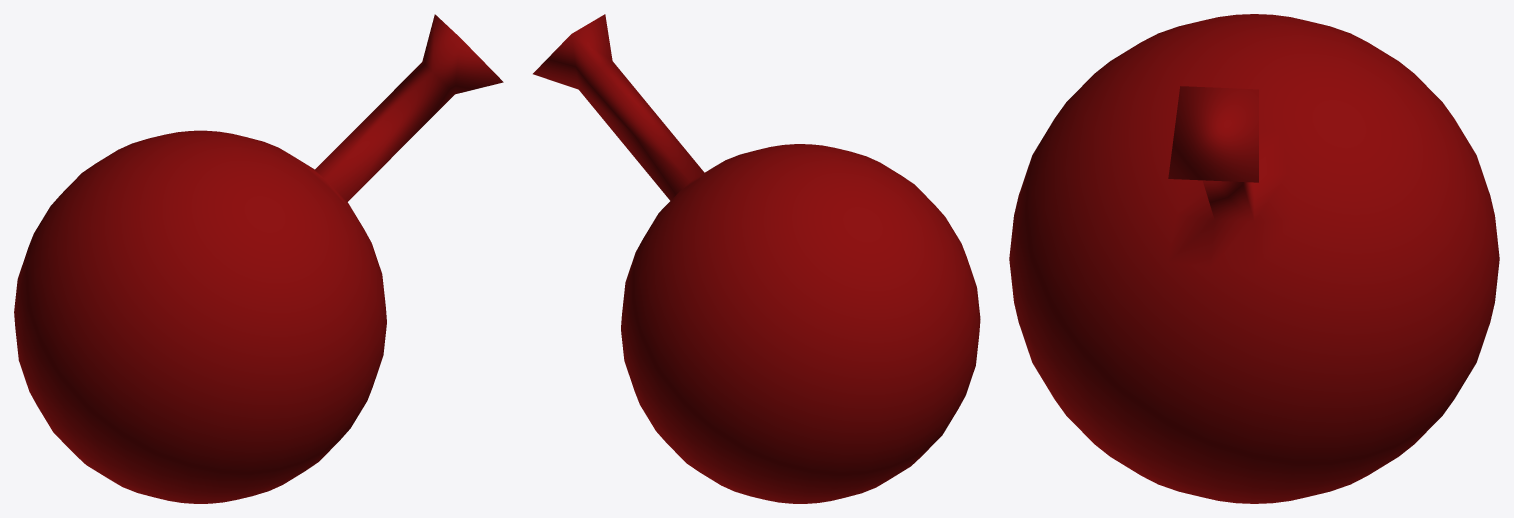
File: Poshin.fbx
The picture shows the model from 3 angles, left to right: view 1: azimuth 30°, elevation 25°; view 2: azimuth 150°, elevation 25°; view 3: azimuth 270°, elevation 25°; orthographic projection. The views are drawn at different scales.
Visible parts, largest first — view 1: Sphere001; view 2: Sphere001; view 3: Sphere001.
Part boxes in pixels (x1,y1,x2,y2): Sphere001: (14, 14, 503, 503); Sphere001: (533, 14, 980, 503); Sphere001: (1009, 14, 1499, 503).
Size of the model in its own units: 95.91 by 86.54 by 70.85.
